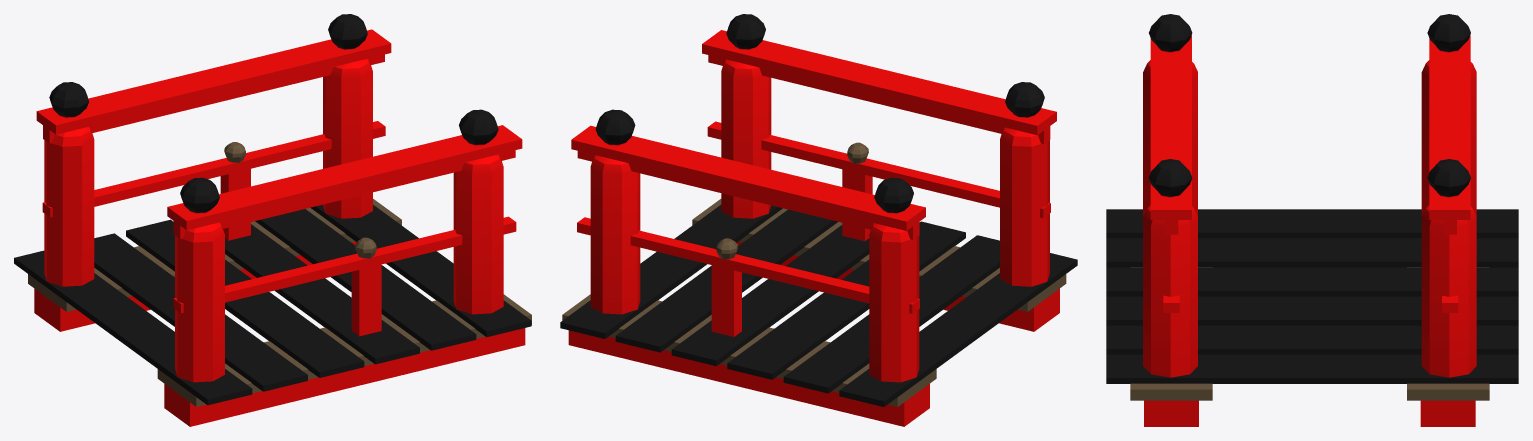
Rendered from PontElements.FBX.
The picture shows the model from 3 angles, left to right: view 1: azimuth 30°, elevation 25°; view 2: azimuth 150°, elevation 25°; view 3: azimuth 270°, elevation 25°; orthographic projection. The views are drawn at different scales.
Visible parts, largest first — view 1: BridgeEnd2, BridgeMid, BridgeEnd1; view 2: BridgeMid, BridgeEnd2, BridgeEnd1; view 3: BridgeEnd2, BridgeMid, BridgeEnd1.
Boxes of the visible parts, bbox=[...] form: BridgeEnd2: bbox=[26, 14, 531, 426]; BridgeMid: bbox=[14, 29, 531, 426]; BridgeEnd1: bbox=[14, 29, 522, 419]; BridgeMid: bbox=[560, 30, 1077, 426]; BridgeEnd2: bbox=[560, 14, 1056, 426]; BridgeEnd1: bbox=[560, 30, 1077, 426]; BridgeEnd2: bbox=[1106, 15, 1518, 426]; BridgeMid: bbox=[1106, 14, 1518, 389]; BridgeEnd1: bbox=[1106, 16, 1518, 389].
Size of the model in its own units: 3 by 1.98 by 3.
